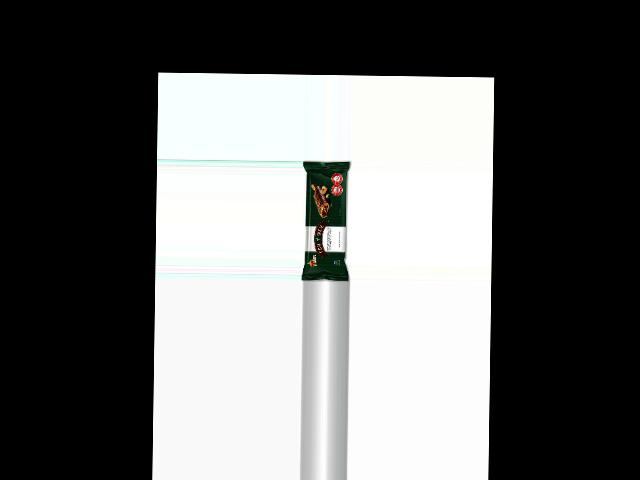chocolate: (301, 160, 352, 282)
